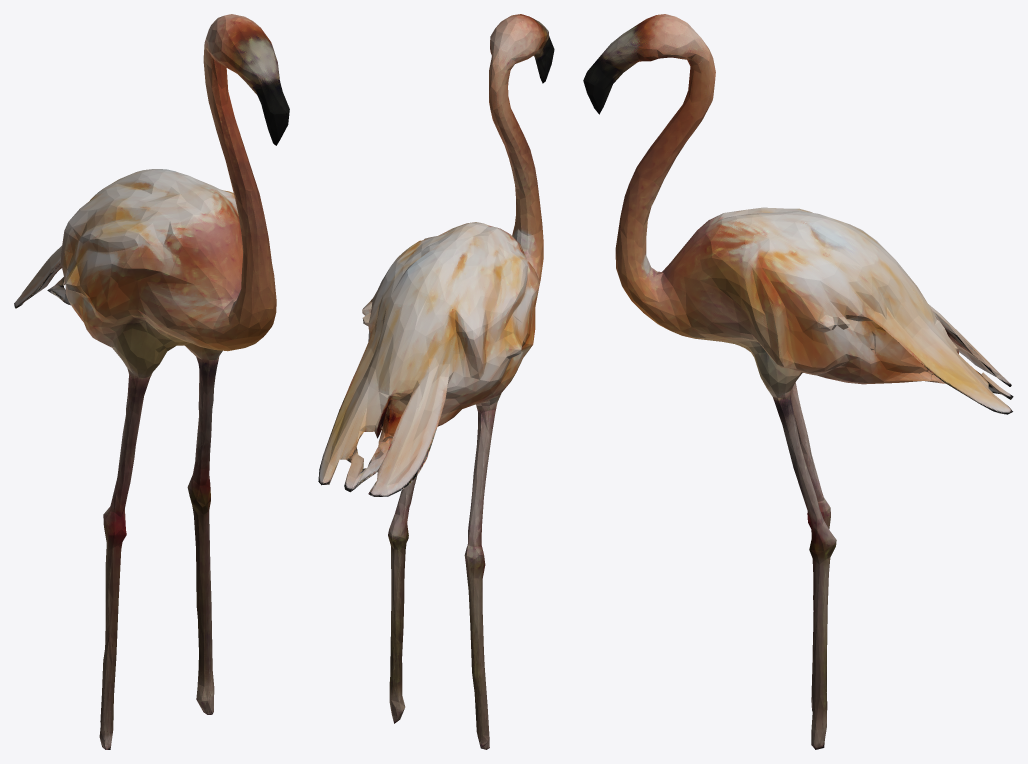
3 renders of one model, left to right at view 1: azimuth 30°, elevation 25°; view 2: azimuth 150°, elevation 25°; view 3: azimuth 270°, elevation 25°, orthographic. The views are drawn at different scales.
Parts seen in each view (by area): view 1: world; view 2: world; view 3: world.
Part boxes in pixels (<box>): world: <box>14,14,289,749</box>; world: <box>318,14,554,749</box>; world: <box>583,14,1013,749</box>.
Bounding box in the file's own units: 0.2372 × 0.9989 × 0.5453.
Materials: 1 (1 with a texture image).
